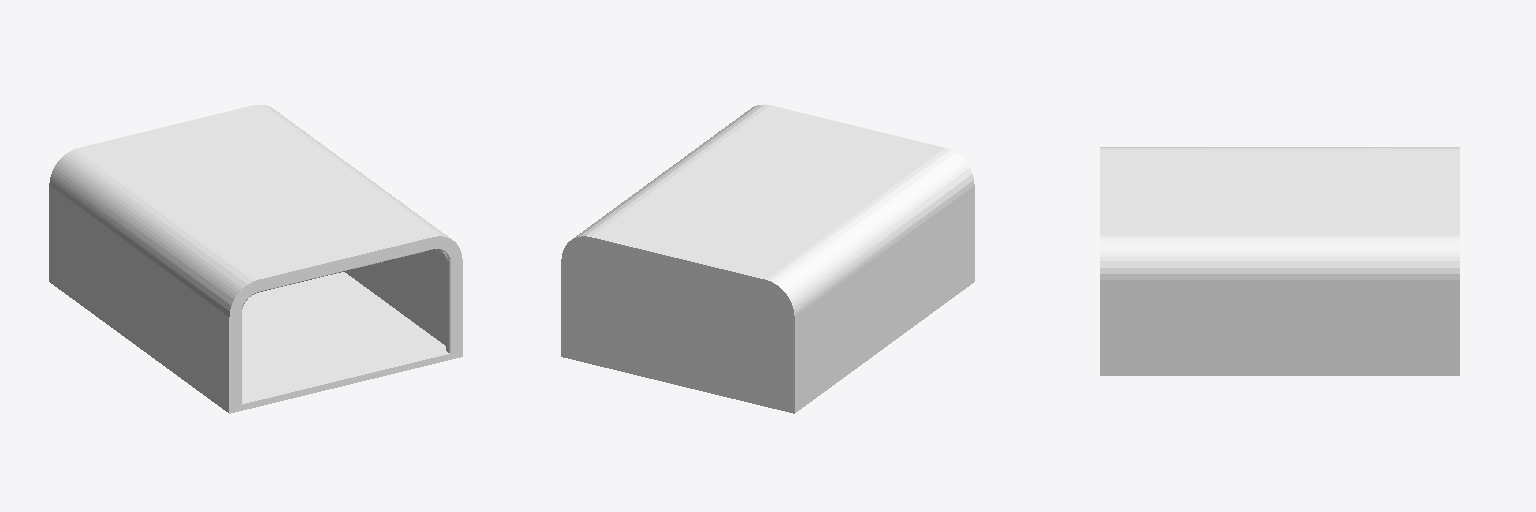
3 views of the same model, side by side, from view 1: azimuth 30°, elevation 25°; view 2: azimuth 150°, elevation 25°; view 3: azimuth 270°, elevation 25° (orthographic).
Parts seen in each view (by area): view 1: object_23, object_24, object_22, object_20, object_6; view 2: object_23, object_24, object_21, object_20, object_22; view 3: object_20, object_23, object_22, object_24.
Part boxes in pixels (left/top/right/bottom): object_23: left=79, top=105, right=432, bottom=287; object_24: left=49, top=148, right=258, bottom=407; object_22: left=49, top=272, right=462, bottom=413; object_20: left=254, top=104, right=462, bottom=351; object_6: left=237, top=245, right=454, bottom=405; object_23: left=591, top=105, right=944, bottom=287; object_24: left=765, top=148, right=974, bottom=407; object_21: left=569, top=245, right=786, bottom=405; object_20: left=561, top=104, right=769, bottom=351; object_22: left=561, top=276, right=974, bottom=413; object_20: left=1100, top=235, right=1459, bottom=369; object_23: left=1100, top=150, right=1459, bottom=234; object_22: left=1100, top=370, right=1459, bottom=375; object_24: left=1100, top=147, right=1459, bottom=149.
Bounding box in the file's own units: 7.97 × 4.15 × 10.66.